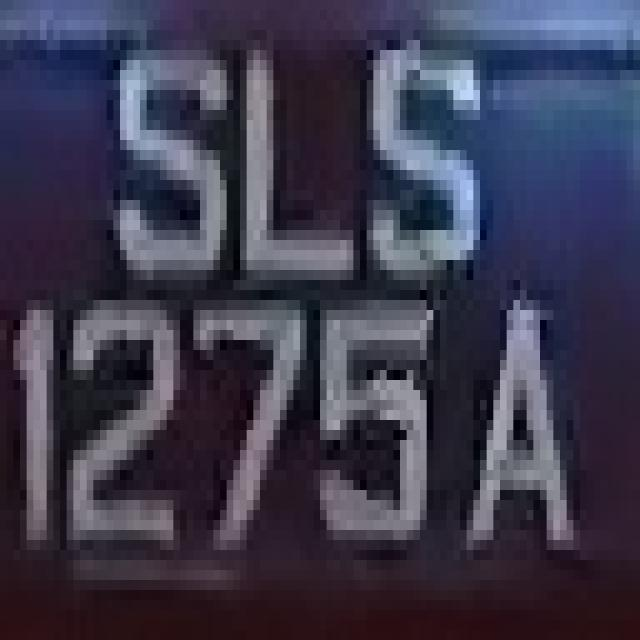1: (7, 270, 60, 580)
2: (73, 290, 187, 570)
5: (307, 280, 440, 550)
7: (160, 270, 313, 560)
A: (446, 270, 586, 570)
L: (227, 40, 360, 300)
S: (100, 40, 247, 320), (367, 30, 513, 280)
